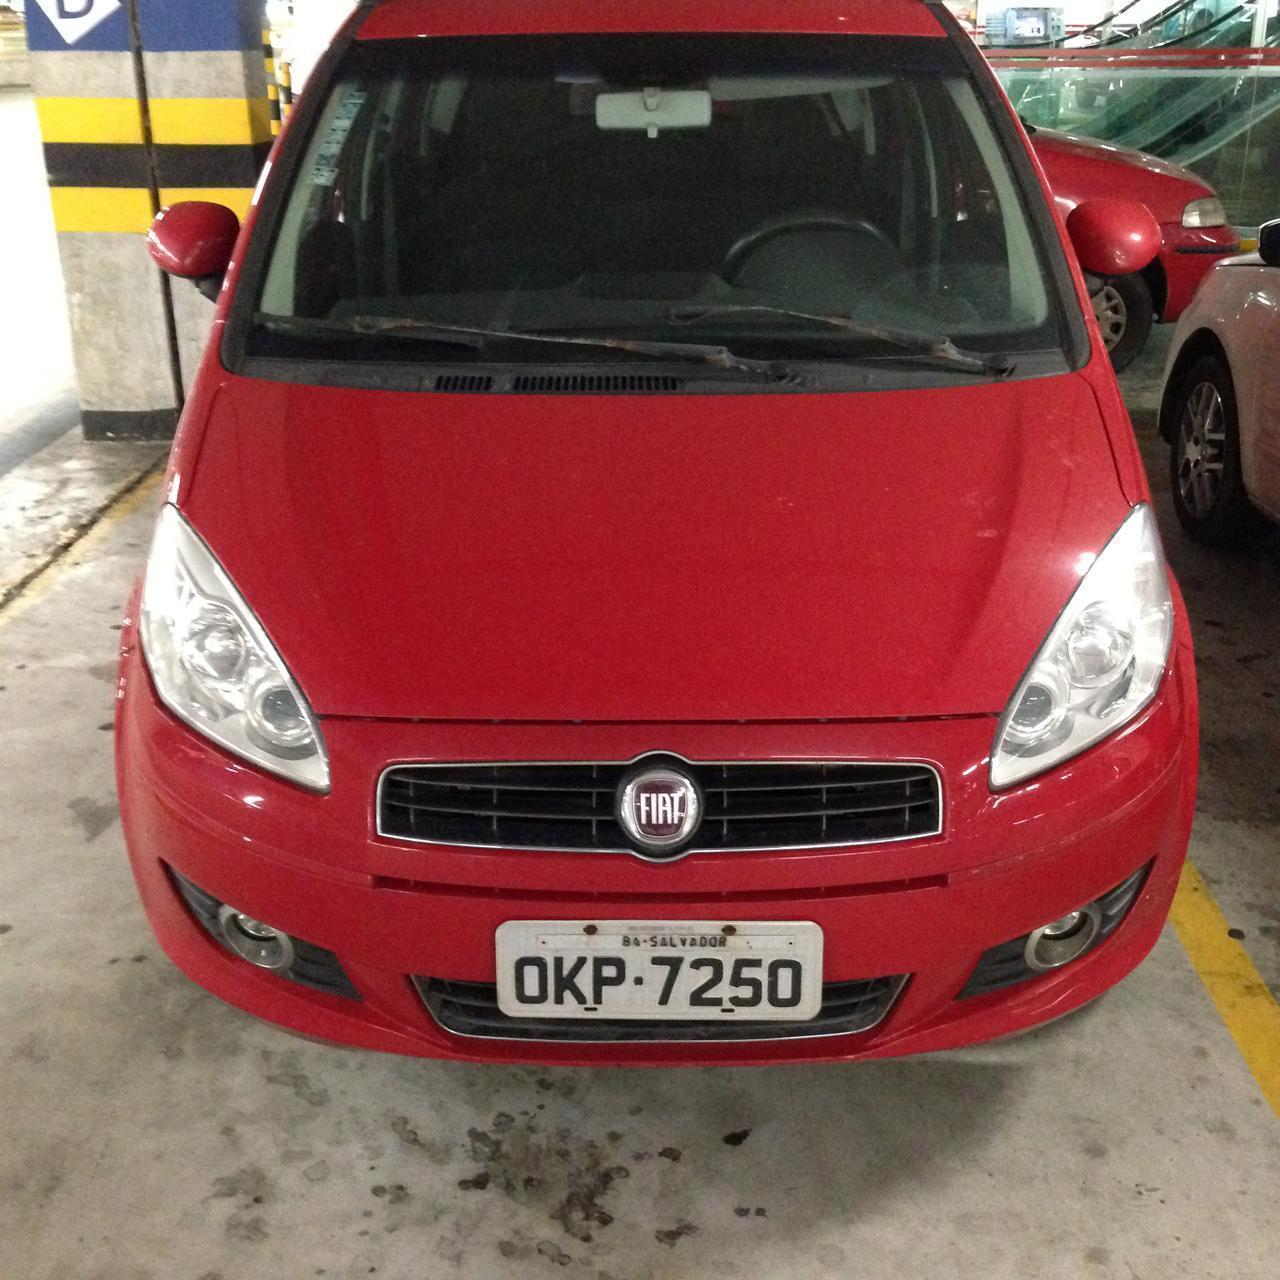placa de veiculo: (473, 897, 874, 1055)
